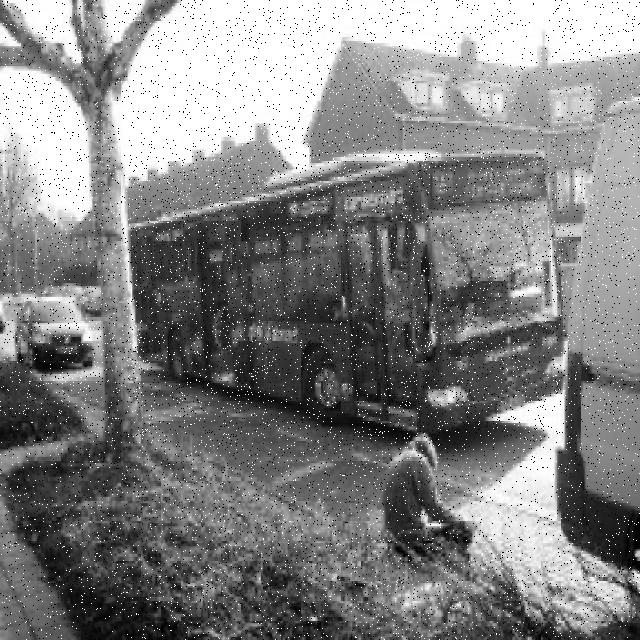Bus: (126, 149, 568, 437)
